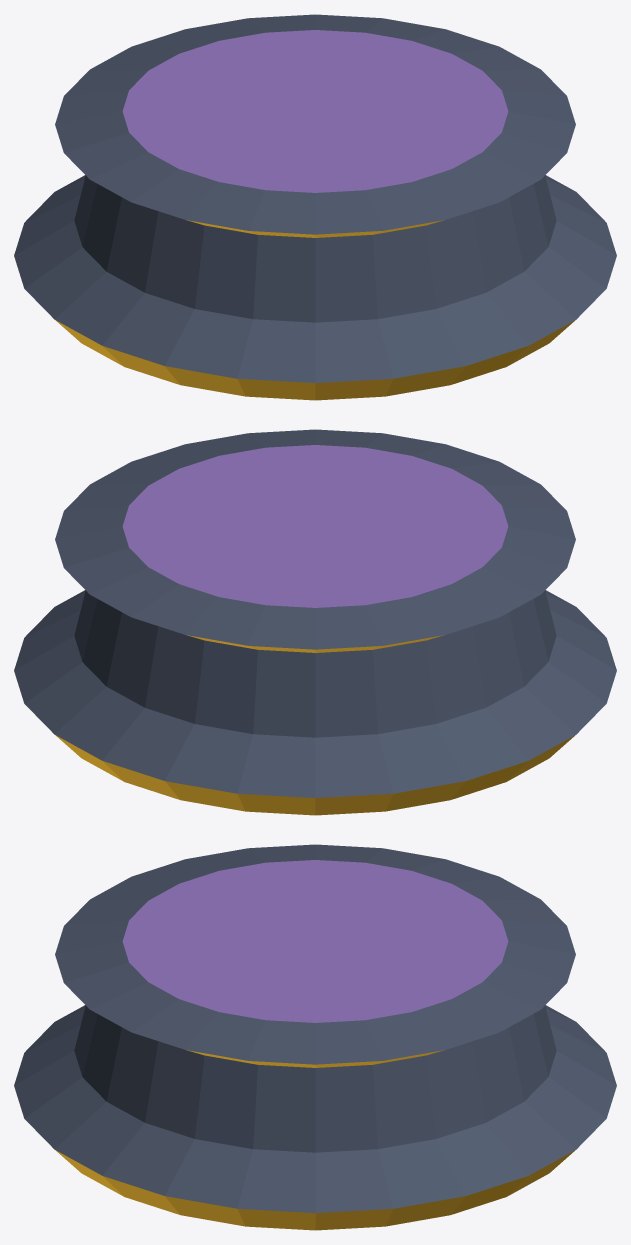
The model's file is copy_memory_station_single.obj.
The picture shows the model from 3 angles, top to bottom: view 1: azimuth 30°, elevation 25°; view 2: azimuth 150°, elevation 25°; view 3: azimuth 270°, elevation 25°; orthographic projection.
Bounding box in the file's own units: 2.5 × 0.8 × 2.5.
